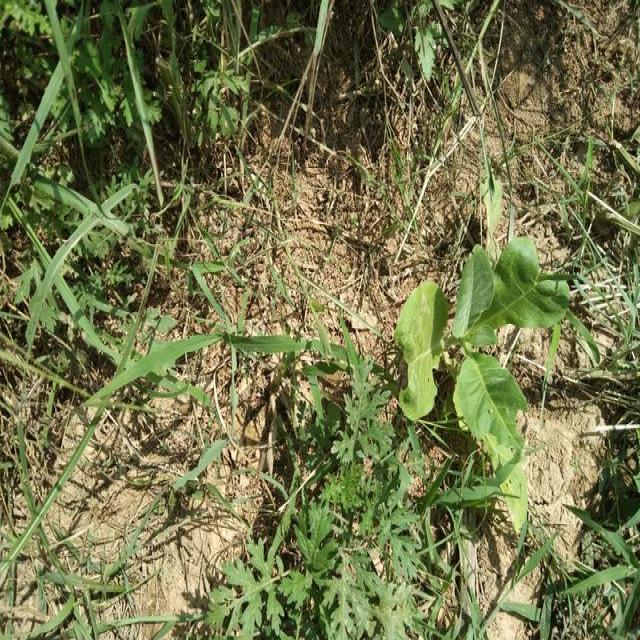crop: (394, 246, 578, 470)
